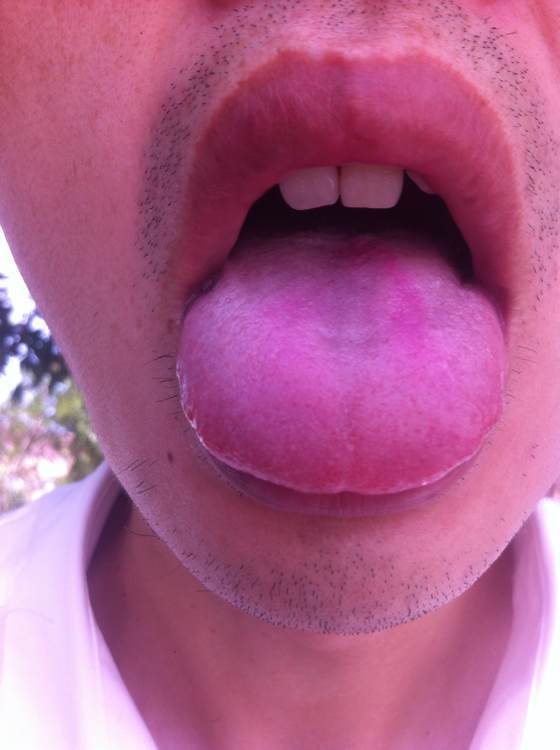pangdashe: (176, 221, 506, 495)
zishe: (176, 221, 506, 495)
